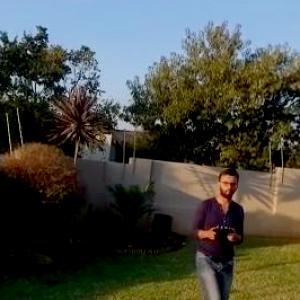follow: (192, 163, 251, 299)
